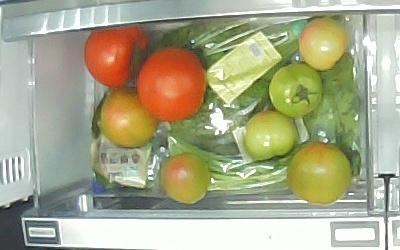tomato: (137, 47, 208, 122), (84, 26, 151, 89), (287, 142, 351, 205), (101, 89, 160, 148), (268, 64, 323, 116), (243, 111, 298, 161), (299, 17, 348, 70), (161, 153, 210, 203)
